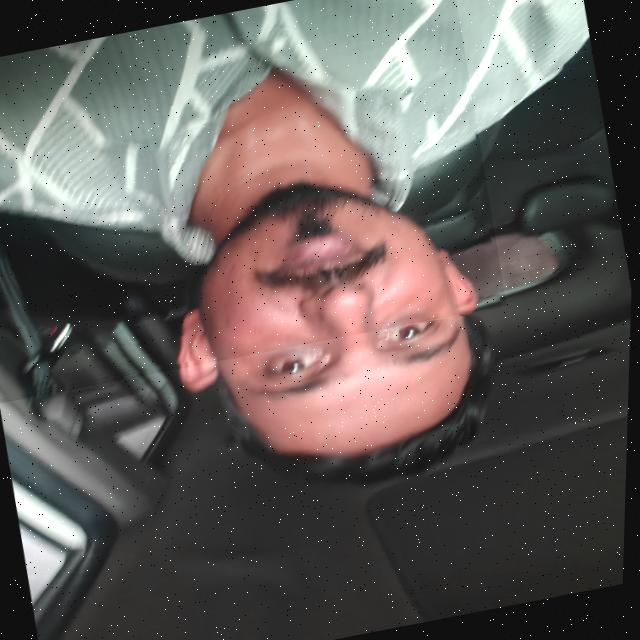no-seatbelt: (0, 0, 514, 403)
